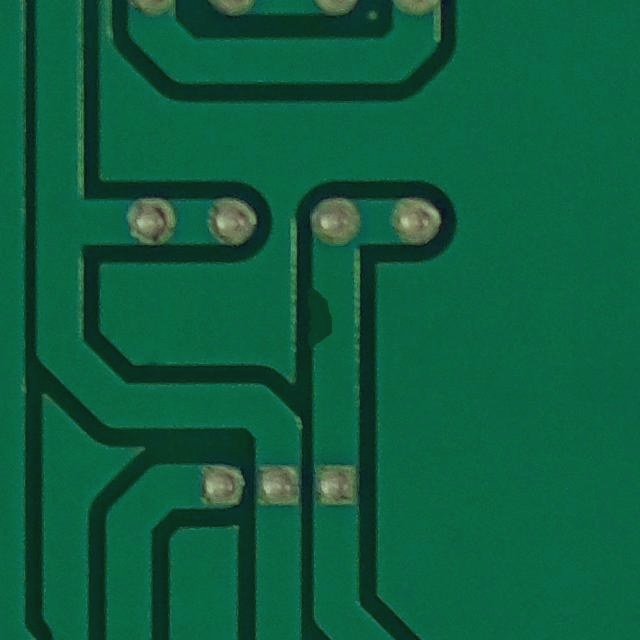mouse_bite: (299, 280, 341, 360)
